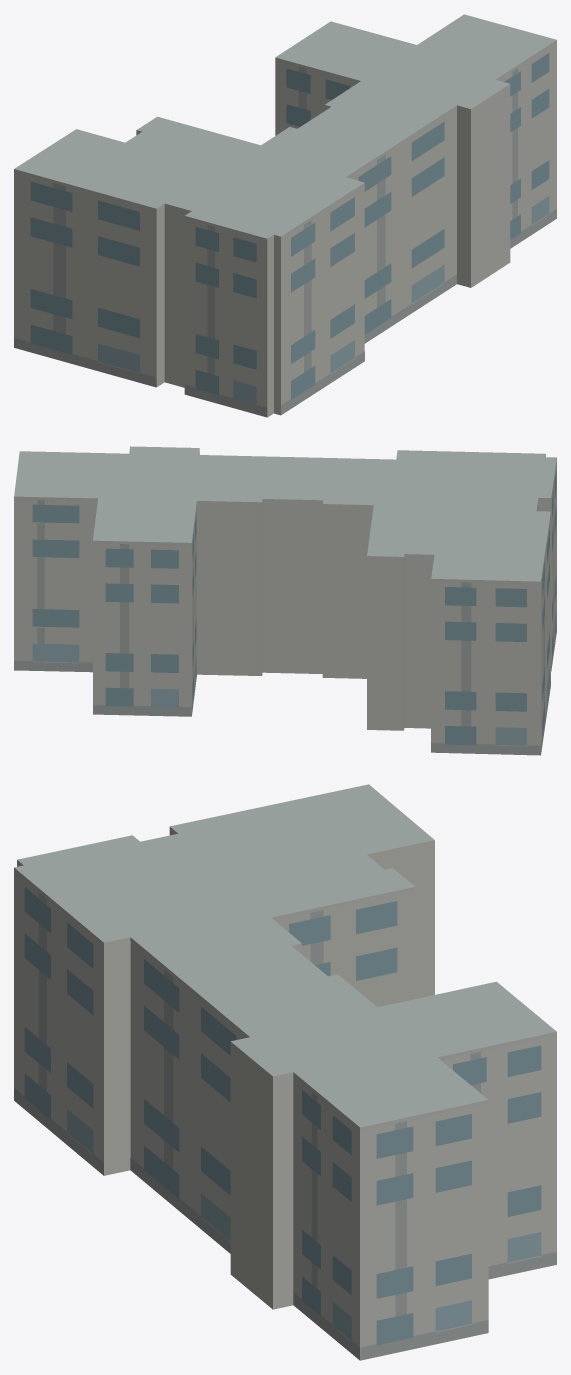
File: residential-d9a002b0-db34-47bf-b9ca-1e36d04c0c50.glb
3 views of the same model, one above another, from view 1: azimuth 30°, elevation 25°; view 2: azimuth 150°, elevation 25°; view 3: azimuth 270°, elevation 25° (orthographic). The views are drawn at different scales.
Visible parts, largest first — view 1: residential-d9a002b0-db34-47bf-b9ca-1e36d04c0c50.tmp; view 2: residential-d9a002b0-db34-47bf-b9ca-1e36d04c0c50.tmp; view 3: residential-d9a002b0-db34-47bf-b9ca-1e36d04c0c50.tmp.
Boxes of the visible parts, <box> form: residential-d9a002b0-db34-47bf-b9ca-1e36d04c0c50.tmp: <box>14,14,556,417</box>; residential-d9a002b0-db34-47bf-b9ca-1e36d04c0c50.tmp: <box>14,446,556,755</box>; residential-d9a002b0-db34-47bf-b9ca-1e36d04c0c50.tmp: <box>14,784,556,1360</box>.
Bounding box in the file's own units: 48.16 × 15.25 × 32.19.
